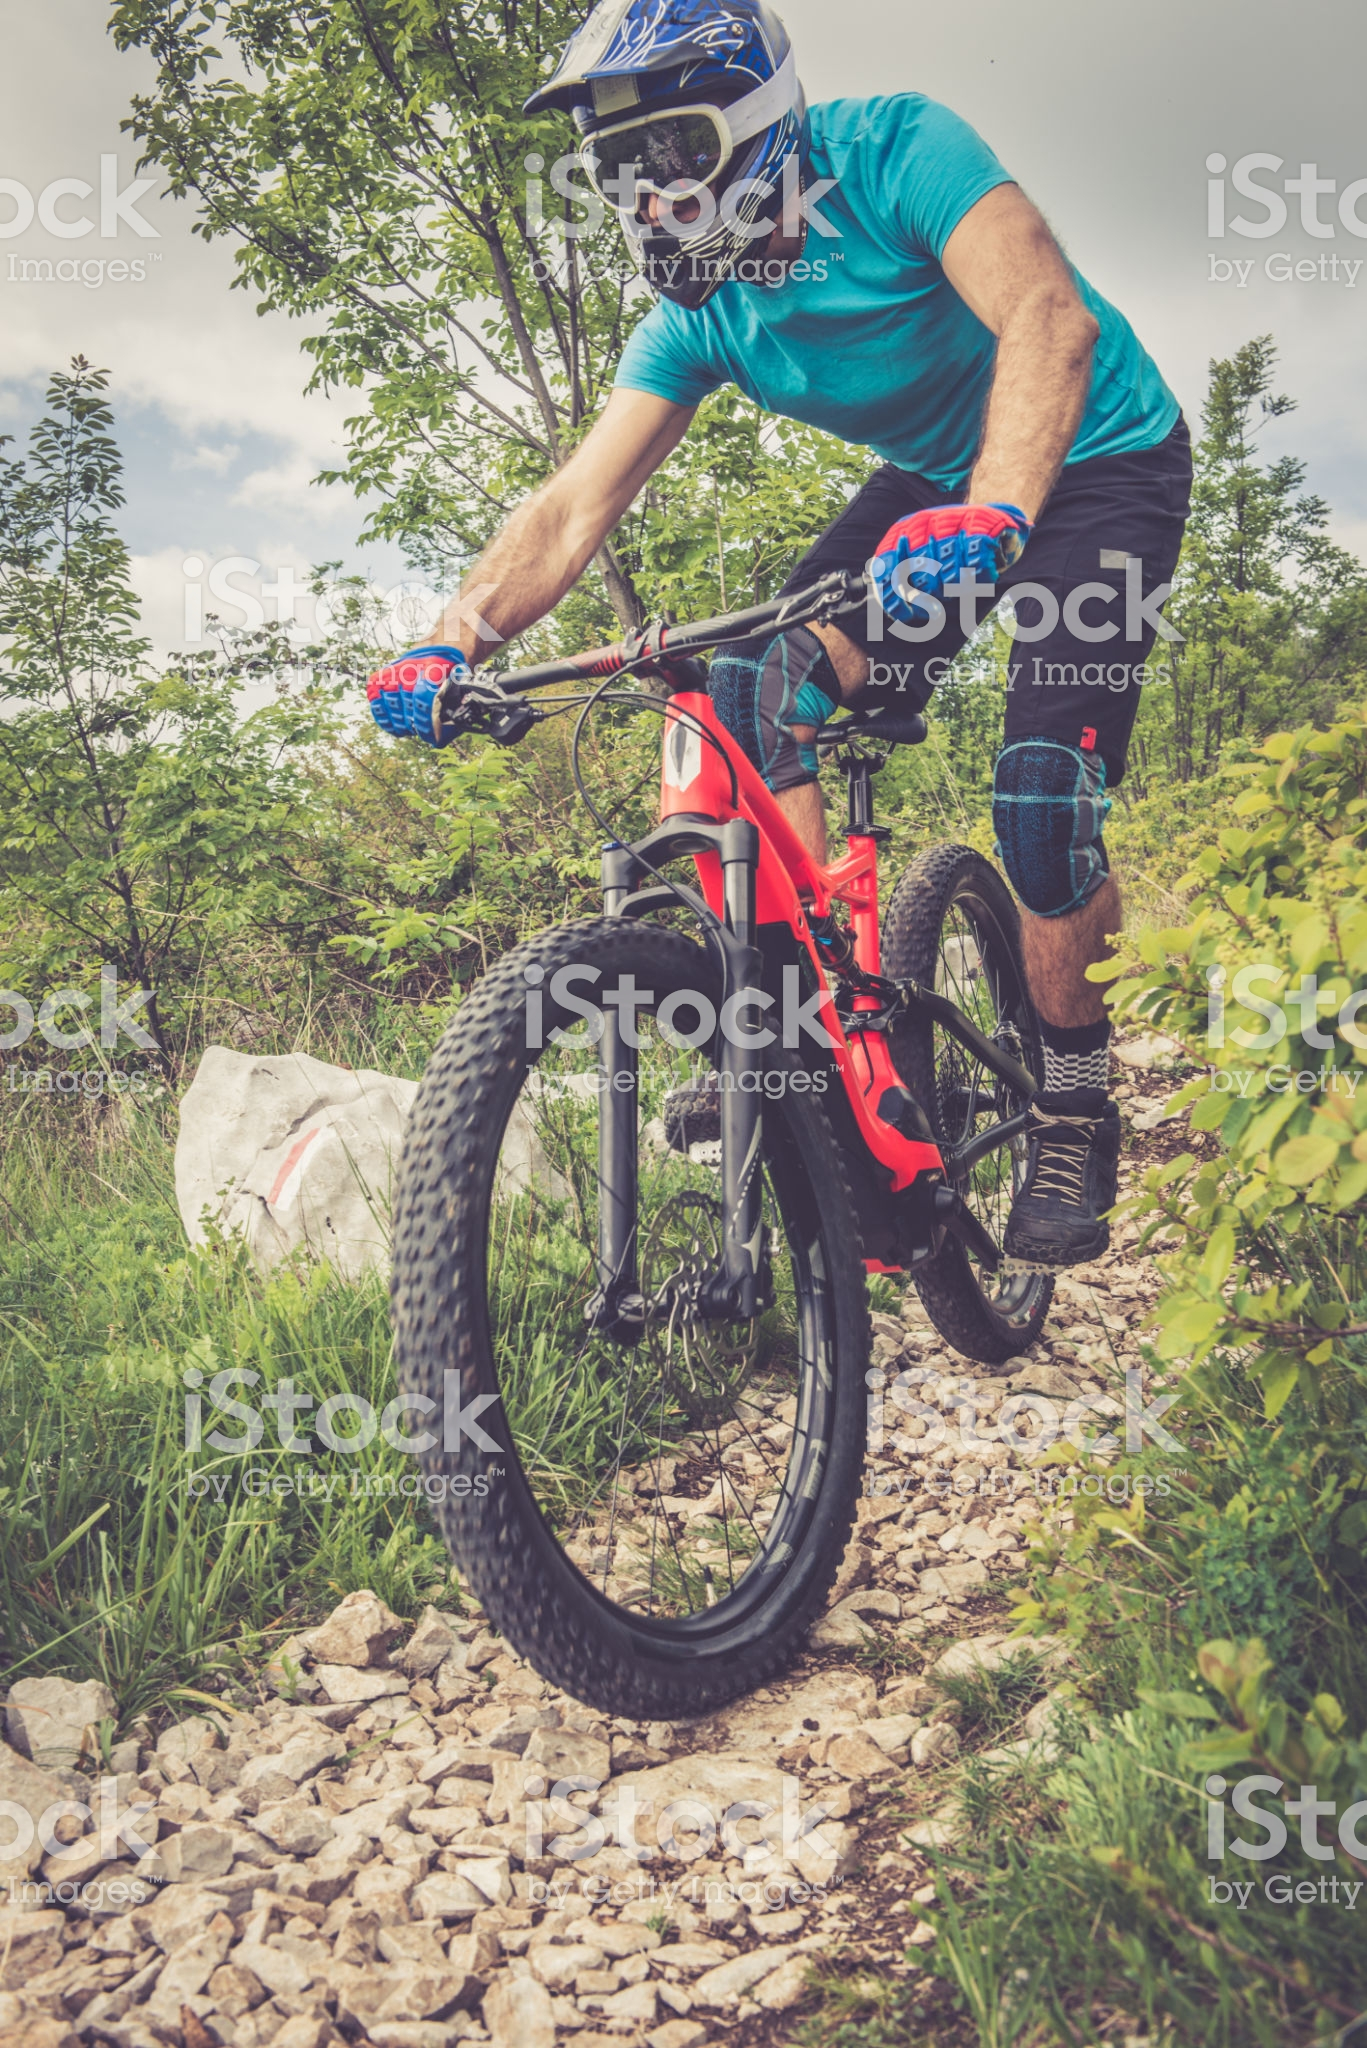helmet: (528, 2, 844, 325)
